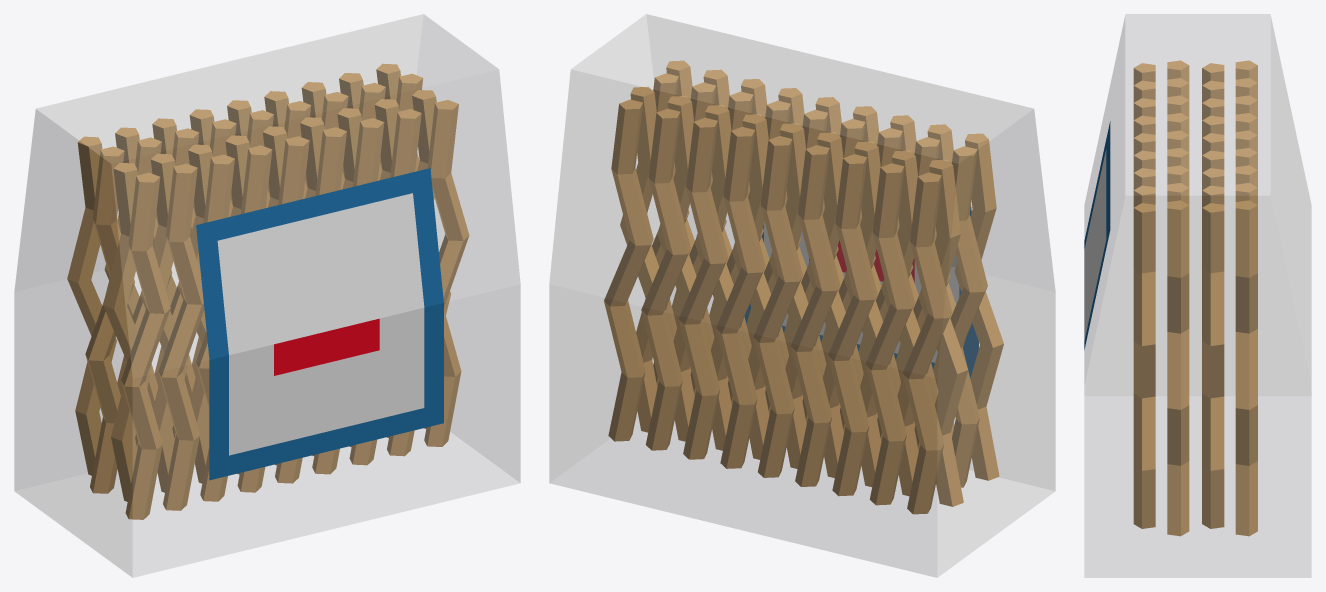
Rendered from Miki Noodles.fbx.
3 renders of one model, left to right at view 1: azimuth 30°, elevation 25°; view 2: azimuth 150°, elevation 25°; view 3: azimuth 270°, elevation 25°, orthographic. The views are drawn at different scales.
Visible parts, largest first — view 1: Miki Noodles; view 2: Miki Noodles; view 3: Miki Noodles.
Part boxes in pixels (box(x1,y1,x2,y2)): Miki Noodles: box(14, 14, 520, 577); Miki Noodles: box(549, 14, 1055, 577); Miki Noodles: box(1084, 14, 1311, 577).
Size of the model in its own units: 40.66 by 39.89 by 21.49.
